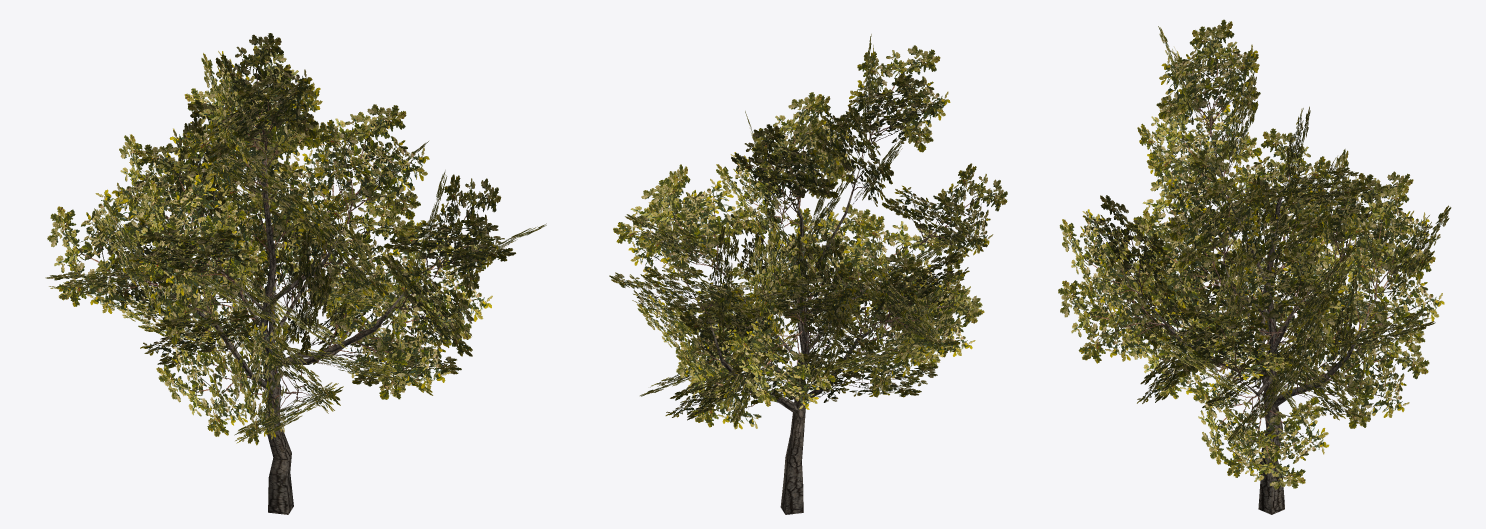
Rendered from SC_yonghengsenlin_29.FBX.
The picture shows the model from 3 angles, left to right: view 1: azimuth 30°, elevation 25°; view 2: azimuth 150°, elevation 25°; view 3: azimuth 270°, elevation 25°; orthographic projection. The views are drawn at different scales.
Visible parts, largest first — view 1: SC_yonghengsenlin_29; view 2: SC_yonghengsenlin_29; view 3: SC_yonghengsenlin_29.
Part boxes in pixels (x1,y1,x2,y2): SC_yonghengsenlin_29: (45, 33, 546, 514); SC_yonghengsenlin_29: (609, 34, 1007, 514); SC_yonghengsenlin_29: (1058, 19, 1451, 514).
Size of the model in its own units: 405 by 414 by 349.
